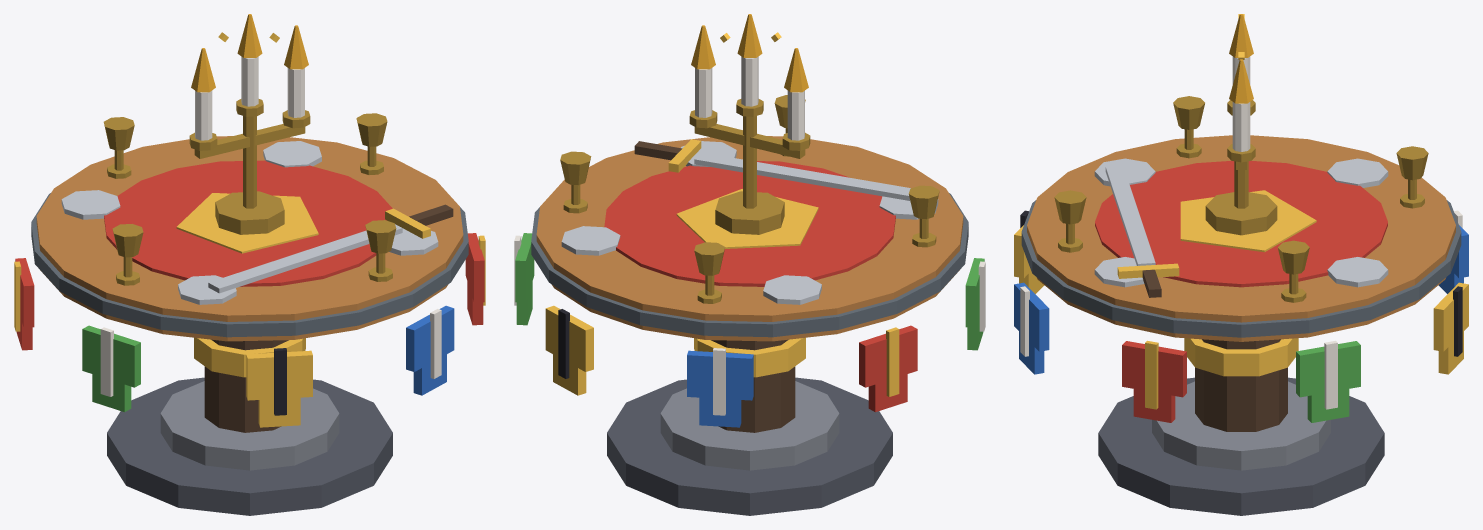
Rendered from CatCafe_Decor_RoundTable.glb.
3 views of the same model, side by side, from view 1: azimuth 30°, elevation 25°; view 2: azimuth 150°, elevation 25°; view 3: azimuth 270°, elevation 25° (orthographic).
Parts seen in each view (by area): view 1: CatCafe_Decor_RoundTable, CatCafe_Decor_RoundTable_Flame_Glow; view 2: CatCafe_Decor_RoundTable, CatCafe_Decor_RoundTable_Flame_Glow; view 3: CatCafe_Decor_RoundTable, CatCafe_Decor_RoundTable_Flame_Glow.
Part boxes in pixels (x1,y1,x2,y2): CatCafe_Decor_RoundTable: (14,56,485,515); CatCafe_Decor_RoundTable_Flame_Glow: (191,14,308,92); CatCafe_Decor_RoundTable: (514,56,985,515); CatCafe_Decor_RoundTable_Flame_Glow: (691,14,808,92); CatCafe_Decor_RoundTable: (1014,56,1468,515); CatCafe_Decor_RoundTable_Flame_Glow: (1229,14,1253,103).
Bounding box in the file's own units: 2.54 × 2.72 × 2.54.
Materials: 1 (1 with a texture image).
